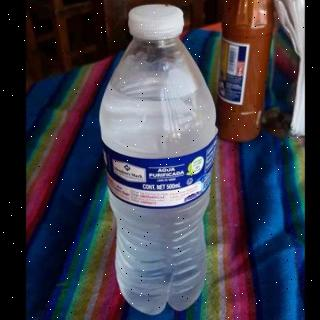Plastic-bottle: (98, 2, 222, 320)
